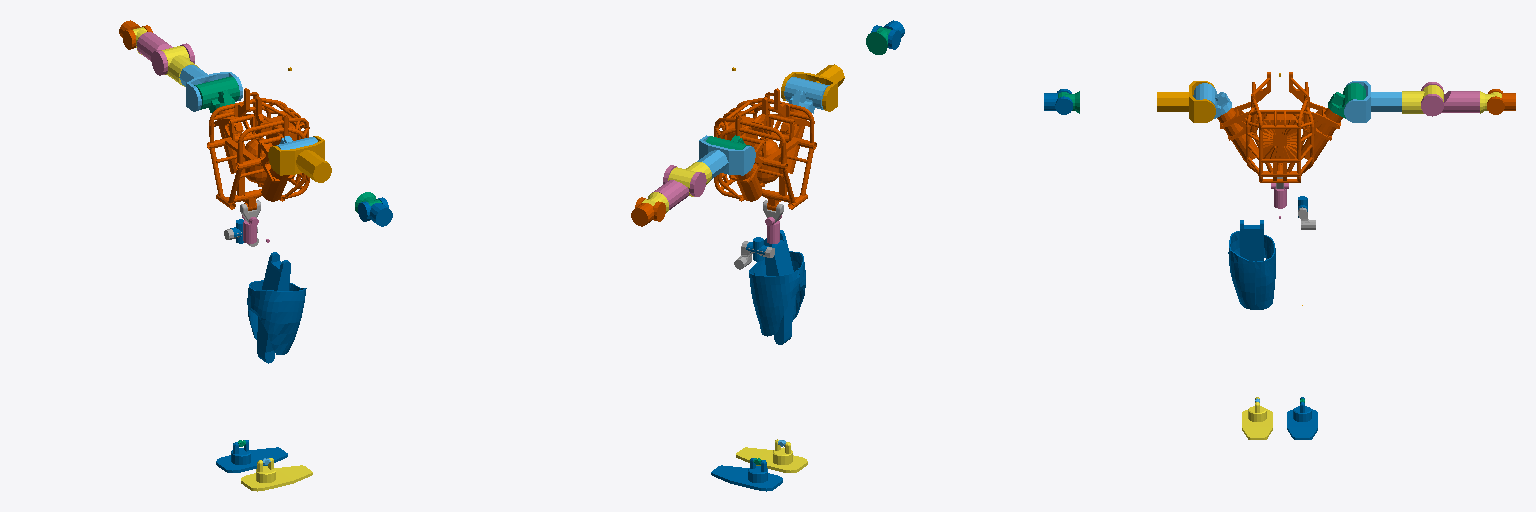
--- Render facts (derived) ---
The picture shows the robot from 3 angles, left to right: view 1: azimuth 30°, elevation 25°; view 2: azimuth 150°, elevation 25°; view 3: azimuth 270°, elevation 25°; orthographic projection.
Model atlas with 41 links and 40 joints (30 revolute, 1 continuous, 9 fixed), rooted at pelvis, posed every joint at zero.
Links seen in each view (by area): view 1: utorso, r_uleg, r_scap, r_foot, l_foot, l_clav, l_scap, l_larm, r_hand, l_uarm; view 2: utorso, r_uleg, l_scap, l_foot, r_foot, r_scap, r_clav, l_larm, l_hand, l_uarm; view 3: utorso, r_uleg, r_scap, l_scap, l_larm, r_foot, l_foot, l_clav, r_clav, l_uarm, l_hand, r_hand.
Link boxes in pixels (x1,y1,x2,y2): utorso: (207,88,309,210); r_uleg: (247,252,306,363); r_scap: (268,136,331,182); r_foot: (241,458,312,491); l_foot: (216,440,287,472); l_clav: (194,76,239,112); l_scap: (179,65,242,111); l_larm: (136,32,194,75); r_hand: (358,197,392,226); l_uarm: (161,46,198,86); utorso: (714,88,816,210); r_uleg: (749,230,805,344); l_scap: (697,135,755,179); l_foot: (711,458,782,491); r_foot: (736,439,807,472); r_scap: (781,64,844,111); r_clav: (784,77,829,113); l_larm: (652,165,706,209); l_hand: (631,197,665,226); l_uarm: (668,162,711,196); utorso: (1217,72,1342,182); r_uleg: (1228,220,1275,309); r_scap: (1157,81,1215,122); l_scap: (1344,81,1401,122); l_larm: (1421,82,1479,116); r_foot: (1242,397,1272,439); l_foot: (1287,397,1317,439); l_clav: (1328,83,1365,118); r_clav: (1193,83,1231,118); l_uarm: (1402,85,1443,113); l_hand: (1487,89,1515,114); r_hand: (1044,89,1072,114).
Bounding box of the posed robot: 0.3188 × 1.86 × 1.58 m (x, y, z).
28 mesh visuals loaded from 30 distinct referenced files (28 Collada DAE); not drawn: 2 (reference not matched to a file when rendering).

robot.urdf — atlas:
<?xml version="1.0" ?>
<!-- =================================================================================== -->
<!-- |    This document was autogenerated by xacro from robots/atlas.model.xacro       | -->
<!-- |    EDITING THIS FILE BY HAND IS NOT RECOMMENDED                                 | -->
<!-- =================================================================================== -->
<robot name="atlas" xmlns:controller="http://playerstage.sourceforge.net/gazebo/xmlschema/#controller" xmlns:interface="http://playerstage.sourceforge.net/gazebo/xmlschema/#interface" xmlns:sensor="http://playerstage.sourceforge.net/gazebo/xmlschema/#sensor" xmlns:xacro="http://www.ros.org/wiki/xacro">
  <link name="head">
    <inertial>
      <origin xyz="-0.075493 3.3383E-05 0.02774" rpy="0 0 0" />
      <mass value="1.4199" />
      <inertia
        iyy="0.0041178"
        ixy="-1.5797E-06"
        iyz="-6.8415E-07"
        ixx="0.0039688"
        ixz="-0.00089293"
        izz="0.0035243" />
    </inertial>
    <visual>
      <origin xyz="-0.0446 0 0.0880" rpy="0 0 1.570795" />
      <geometry>
        <mesh filename="package://multisense_sl/meshes/base_link.STL" />
      </geometry>
      <material name="">
        <color rgba="0.9098 0.44314 0.031373 1" />
      </material>
    </visual>
    <collision>
      <origin xyz="-0.0446 0 0.0880" rpy="0 0 1.570795" />
      <geometry>
        <mesh filename="package://multisense_sl/meshes/base_link.STL" />
      </geometry>
    </collision>
  </link>
  <link name="hokuyo_link">
    <inertial>
      <origin xyz="0.012428 0.0004084 -0.0041835" rpy="0 0 0" />
      <mass value="0.057664" />
      <inertia
        iyy="4.2412E-05"
        ixy="4.9927E-08"
        iyz="-9.8165E-09"
        ixx="3.7174E-05"
        ixz="1.1015E-05"
        izz="4.167E-05" />
    </inertial>
    <visual>
      <origin xyz="0 0 0" rpy="1.5707963267949 0 1.5707963267949" />
      <geometry>
        <mesh filename="package://multisense_sl/meshes/hokuyo_link.STL" />
      </geometry>
      <material name="">
        <color rgba="0.72941 0.35686 0.023529 1" />
      </material>
    </visual>
    <collision>
      <origin xyz="0 0 0" rpy="1.5707963267949 0 1.5707963267949" />
      <geometry>
        <mesh filename="package://multisense_sl/meshes/hokuyo_link.STL" />
      </geometry>
    </collision>
  </link>
  <joint name="hokuyo_joint" type="continuous">
    <origin xyz="-0.0446 0 0.0880" rpy="0 0 0" />
    <parent link="head" />
    <child link="hokuyo_link" />
    <axis xyz="1 0 0" />
    <dynamics damping="0.01" friction="0"/>
  </joint>
  <link name="l_clav">
    <inertial>
      <mass value="2.369"/>
      <origin rpy="0 -0 0" xyz="0.014 0.058 0.029"/>
      <inertia ixx="0.004" ixy="0.001" ixz="0" iyy="0.006" iyz="0" izz="0.007"/>
    </inertial>
    <visual>
      <origin rpy="0 -0 0" xyz="0 0 0"/>
      <geometry>
        <mesh filename="package://mit_robot/meshes/l_clav.dae" scale="1 1 1"/>
      </geometry>
    </visual>
    <collision>
      <origin rpy="0 -0 0" xyz="0 0 0"/>
      <geometry>
        <mesh filename="package://mit_robot/meshes/l_clav.stl" scale="1 1 1"/>
      </geometry>
    </collision>
  </link>
  <link name="l_farm">
    <inertial>
      <mass value="0.981"/>
      <origin rpy="0 -0 0" xyz="0 0.041 0"/>
      <inertia ixx="0.003" ixy="0" ixz="0" iyy="0.001" iyz="0" izz="0.003"/>
    </inertial>
    <visual>
      <origin rpy="0 -0 0" xyz="0 0 0"/>
      <geometry>
        <mesh filename="package://mit_robot/meshes/l_farm.dae" scale="1 1 1"/>
      </geometry>
    </visual>
    <collision>
      <origin rpy="0 -0 0" xyz="0 0 0"/>
      <geometry>
        <mesh filename="package://mit_robot/meshes/l_farm.stl" scale="1 1 1"/>
      </geometry>
    </collision>
  </link>
  <link name="l_foot">
    <inertial>
      <mass value="1.634"/>
      <origin rpy="0 -0 0" xyz="0.027 0 -0.067"/>
      <inertia ixx="0.002" ixy="0" ixz="0" iyy="0.007" iyz="0" izz="0.008"/>
    </inertial>
    <visual>
      <origin rpy="0 -0 0" xyz="0 0 0"/>
      <geometry>
        <mesh filename="package://mit_robot/meshes/l_foot.dae" scale="1 1 1"/>
      </geometry>
      <!--
      <origin xyz="0.048 0 -0.076119" rpy="0 0 0"/>
      <geometry>
        <box size="0.26 0.124887 0.01"/>
      </geometry>
      -->
    </visual>
    <collision>
      <origin rpy="0 -0 0" xyz="0 0 0"/>
      <geometry>
        <mesh filename="package://mit_robot/meshes/l_foot.stl" scale="1 1 1"/>
      </geometry>
      <!--
      <origin xyz="0.048 0 -0.076119" rpy="0 0 0"/>
      <geometry>
        <box size="0.26 0.124887 0.01"/>
      </geometry>
      -->
    </collision>
  </link>
  <link name="l_hand">
    <inertial>
      <mass value="2.263"/>
      <origin rpy="0 -0 0" xyz="0 0.093 0"/>
      <inertia ixx="0.01" ixy="0" ixz="0" iyy="0.002" iyz="0" izz="0.01"/>
    </inertial>
    <visual>
      <origin rpy="0 -0 0" xyz="0 0 0"/>
      <geometry>
        <mesh filename="package://mit_robot/meshes/l_hand.dae" scale="1 1 1"/>
      </geometry>
    </visual>
    <collision>
      <origin rpy="0 -0 0" xyz="0 0 0"/>
      <geometry>
        <mesh filename="package://mit_robot/meshes/l_hand.stl" scale="1 1 1"/>
      </geometry>
    </collision>
  </link>
  <link name="l_larm">
    <inertial>
      <mass value="2.148"/>
      <origin rpy="0 -0 0" xyz="-0.003 0.099 -0.014"/>
      <inertia ixx="0.005" ixy="0" ixz="0" iyy="0.003" iyz="0" izz="0.006"/>
    </inertial>
    <visual>
      <origin rpy="0 -0 0" xyz="0 0 0"/>
      <geometry>
        <mesh filename="package://mit_robot/meshes/l_larm.dae" scale="1 1 1"/>
      </geometry>
    </visual>
    <collision>
      <origin rpy="0 -0 0" xyz="0 0 0"/>
      <geometry>
        <mesh filename="package://mit_robot/meshes/l_larm.stl" scale="1 1 1"/>
      </geometry>
    </collision>
  </link>
  <link name="l_lglut">
    <inertial>
      <mass value="0.69"/>
      <origin rpy="0 -0 0" xyz="0.0133341 0.0170484 -0.0312052"/>
      <inertia ixx="0.000691326" ixy="-2.24344e-05" ixz="2.50508e-06" iyy="0.00126856" iyz="0.000137862" izz="0.00106487"/>
    </inertial>
    <visual>
      <origin rpy="0 -0 0" xyz="0 0 0"/>
      <geometry>
        <mesh filename="package://mit_robot/meshes/l_lglut.dae" scale="1 1 1"/>
      </geometry>
    </visual>
    <collision>
      <origin rpy="0 -0 0" xyz="0 0 0"/>
      <geometry>
        <mesh filename="package://mit_robot/meshes/l_lglut.stl" scale="1 1 1"/>
      </geometry>
    </collision>
  </link>
  <link name="l_lleg">
    <inertial>
      <mass value="4.367"/>
      <origin rpy="0 -0 0" xyz="0.001 0 -0.187"/>
      <inertia ixx="0.077" ixy="0" ixz="-0.003" iyy="0.076" iyz="0" izz="0.01"/>
    </inertial>
    <visual>
      <origin rpy="0 -0 0" xyz="0 0 0"/>
      <geometry>
        <mesh filename="package://mit_robot/meshes/l_lleg.dae" scale="1 1 1"/>
      </geometry>
    </visual>
    <collision>
      <origin rpy="0 -0 0" xyz="0 0 0"/>
      <geometry>
        <mesh filename="package://mit_robot/meshes/l_lleg.stl" scale="1 1 1"/>
      </geometry>
    </collision>
  </link>
  <link name="l_scap">
    <inertial>
      <mass value="2.707"/>
      <origin rpy="0 -0 0" xyz="-0.002 0.108 0"/>
      <inertia ixx="0.01" ixy="0" ixz="0" iyy="0.005" iyz="0" izz="0.013"/>
    </inertial>
    <visual>
      <origin rpy="0 -0 0" xyz="0 0 0"/>
      <geometry>
        <mesh filename="package://mit_robot/meshes/l_scap.dae" scale="1 1 1"/>
      </geometry>
    </visual>
    <collision>
      <origin rpy="0 -0 0" xyz="0 0 0"/>
      <geometry>
        <mesh filename="package://mit_robot/meshes/l_scap.stl" scale="1 1 1"/>
      </geometry>
    </collision>
  </link>
  <link name="l_talus">
    <inertial>
      <mass value="0.1"/>
      <origin rpy="0 -0 0" xyz="0 0 0"/>
      <inertia ixx="1.01674e-05" ixy="0" ixz="0" iyy="8.42775e-06" iyz="0" izz="1.30101e-05"/>
    </inertial>
    <visual>
      <origin rpy="0 -0 0" xyz="0 0 0"/>
      <geometry>
        <mesh filename="package://mit_robot/meshes/l_talus.dae" scale="1 1 1"/>
      </geometry>
    </visual>
    <collision>
      <origin rpy="0 -0 0" xyz="0 0 0"/>
      <geometry>
        <mesh filename="package://mit_robot/meshes/l_talus.stl" scale="1 1 1"/>
      </geometry>
    </collision>
  </link>
  <link name="l_uarm">
    <inertial>
      <mass value="1.881"/>
      <origin rpy="0 -0 0" xyz="0.007 0.114 0.008"/>
      <inertia ixx="0.002" ixy="0" ixz="0" iyy="0.003" iyz="0" izz="0.003"/>
    </inertial>
    <visual>
      <origin rpy="0 -0 0" xyz="0 0 0"/>
      <geometry>
        <mesh filename="package://mit_robot/meshes/l_uarm.dae" scale="1 1 1"/>
      </geometry>
    </visual>
    <collision>
      <origin rpy="0 -0 0" xyz="0 0 0"/>
      <geometry>
        <mesh filename="package://mit_robot/meshes/l_uarm.stl" scale="1 1 1"/>
      </geometry>
    </collision>
  </link>
  <link name="l_uglut">
    <inertial>
      <mass value="0.5166"/>
      <origin rpy="0 -0 0" xyz="0.00529262 -0.00344732 0.00313046"/>
      <inertia ixx="0.00074276" ixy="-3.79607e-08" ixz="-2.79549e-05" iyy="0.000688179" iyz="-3.2735e-08" izz="0.00041242"/>
    </inertial>
    <visual>
      <origin rpy="0 -0 0" xyz="0 0 0"/>
      <geometry>
        <mesh filename="package://mit_robot/meshes/l_uglut.dae" scale="1 1 1"/>
      </geometry>
    </visual>
    <collision>
      <origin rpy="0 -0 0" xyz="0 0 0"/>
      <geometry>
        <mesh filename="package://mit_robot/meshes/l_uglut.stl" scale="1 1 1"/>
      </geometry>
    </collision>
  </link>
  <link name="l_uleg">
    <inertial>
      <mass value="7.34"/>
      <origin rpy="0 -0 0" xyz="0 0 -0.21"/>
      <inertia ixx="0.09" ixy="0" ixz="0" iyy="0.09" iyz="0" izz="0.02"/>
    </inertial>
    <visual>
      <origin rpy="0 -0 0" xyz="0 0 0"/>
      <geometry>
        <mesh filename="package://mit_robot/meshes/l_uleg.dae" scale="1 1 1"/>
      </geometry>
    </visual>
    <collision>
      <origin rpy="0 -0 0" xyz="0 0 0"/>
      <geometry>
        <mesh filename="package://mit_robot/meshes/l_uleg.stl" scale="1 1 1"/>
      </geometry>
    </collision>
  </link>
  <link name="ltorso">
    <inertial>
      <mass value="1.92"/>
      <origin rpy="0 -0 0" xyz="-0.0112984 -3.15366e-06 0.0746835"/>
      <inertia ixx="0.0039092" ixy="-5.04491e-08" ixz="-0.000342157" iyy="0.00341694" iyz="4.87119e-07" izz="0.00174492"/>
    </inertial>
    <visual>
      <origin rpy="0 -0 0" xyz="0 0 0"/>
      <geometry>
        <mesh filename="package://mit_robot/meshes/ltorso.dae" scale="1 1 1"/>
      </geometry>
    </visual>
    <collision>
      <origin rpy="0 -0 0" xyz="0 0 0"/>
      <geometry>
        <mesh filename="package://mit_robot/meshes/ltorso.stl" scale="1 1 1"/>
      </geometry>
    </collision>
  </link>
  <link name="mtorso">
    <inertial>
      <mass value="0.55"/>
      <origin rpy="0 -0 0" xyz="-0.00816266 -0.0131245 0.0305974"/>
      <inertia ixx="0.000454181" ixy="-6.10764e-05" ixz="3.94009e-05" iyy="0.000483282" iyz="5.27463e-05" izz="0.000444215"/>
    </inertial>
    <visual>
      <origin rpy="0 -0 0" xyz="0 0 0"/>
      <geometry>
        <mesh filename="package://mit_robot/meshes/mtorso.dae" scale="1 1 1"/>
      </geometry>
    </visual>
    <collision>
      <origin rpy="0 -0 0" xyz="0 0 0"/>
      <geometry>
        <mesh filename="package://mit_robot/meshes/mtorso.stl" scale="1 1 1"/>
      </geometry>
    </collision>
  </link>
  <link name="pelvis">
    <inertial>
      <mass value="14.2529"/>
      <origin rpy="0 -0 0" xyz="0.0111 0 0.0271"/>
      <inertia ixx="0.1244" ixy="0.0008" ixz="-0.0007" iyy="0.0958" iyz="-0.0005" izz="0.1167"/>
    </inertial>
    <visual>
      <origin rpy="0 -0 0" xyz="0 0 0"/>
      <geometry>
        <mesh filename="package://mit_robot/meshes/pelvis.dae" scale="1 1 1"/>
      </geometry>
    </visual>
    <collision>
      <origin rpy="0 -0 0" xyz="0 0 0"/>
      <geometry>
        <mesh filename="package://mit_robot/meshes/pelvis.stl" scale="1 1 1"/>
      </geometry>
    </collision>
  </link>
  <link name="r_clav">
    <inertial>
      <mass value="2.369"/>
      <origin rpy="0 -0 0" xyz="0.014 -0.058 0.029"/>
      <inertia ixx="0.004" ixy="-0.001" ixz="0" iyy="0.006" iyz="0" izz="0.007"/>
    </inertial>
    <visual>
      <origin rpy="0 -0 0" xyz="0 0 0"/>
      <geometry>
        <mesh filename="package://mit_robot/meshes/r_clav.dae" scale="1 1 1"/>
      </geometry>
    </visual>
    <collision>
      <origin rpy="0 -0 0" xyz="0 0 0"/>
      <geometry>
        <mesh filename="package://mit_robot/meshes/r_clav.stl" scale="1 1 1"/>
      </geometry>
    </collision>
  </link>
  <link name="r_farm">
    <inertial>
      <mass value="0.981"/>
      <origin rpy="0 -0 0" xyz="0 -0.041 0"/>
      <inertia ixx="0.003" ixy="0" ixz="0" iyy="0.001" iyz="0" izz="0.003"/>
    </inertial>
    <visual>
      <origin rpy="0 -0 0" xyz="0 0 0"/>
      <geometry>
        <mesh filename="package://mit_robot/meshes/r_farm.dae" scale="1 1 1"/>
      </geometry>
    </visual>
    <collision>
      <origin rpy="0 -0 0" xyz="0 0 0"/>
      <geometry>
        <mesh filename="package://mit_robot/meshes/r_farm.stl" scale="1 1 1"/>
      </geometry>
    </collision>
  </link>
  <link name="r_foot">
    <inertial>
      <mass value="1.634"/>
      <origin rpy="0 -0 0" xyz="0.027 0 -0.067"/>
      <inertia ixx="0.002" ixy="0" ixz="0" iyy="0.007" iyz="0" izz="0.008"/>
    </inertial>
    <visual>
      <origin rpy="0 -0 0" xyz="0 0 0"/>
      <geometry>
        <mesh filename="package://mit_robot/meshes/r_foot.dae" scale="1 1 1"/>
      </geometry>
      <!--
      <origin xyz="0.048 0 -0.076119" rpy="0 0 0"/>
      <geometry>
        <box size="0.26 0.124887 0.01"/>
      </geometry>
      -->
    </visual>
    <collision>
      <origin rpy="0 -0 0" xyz="0 0 0"/>
      <geometry>
        <mesh filename="package://mit_robot/meshes/r_foot.stl" scale="1 1 1"/>
      </geometry>
      <!--
      <origin xyz="0.048 0 -0.076119" rpy="0 0 0"/>
      <geometry>
        <box size="0.26 0.124887 0.01"/>
      </geometry>
      -->
    </collision>
  </link>
  <link name="r_hand">
    <inertial>
      <mass value="2.263"/>
      <origin rpy="0 -0 0" xyz="0 -0.093 0"/>
      <inertia ixx="0.01" ixy="0" ixz="0" iyy="0.002" iyz="0" izz="0.01"/>
    </inertial>
    <visual>
      <origin rpy="0 -0 0" xyz="0 0 0"/>
      <geometry>
        <mesh filename="package://mit_robot/meshes/r_hand.dae" scale="1 1 1"/>
      </geometry>
    </visual>
    <collision>
      <origin rpy="0 -0 0" xyz="0 0 0"/>
      <geometry>
        <mesh filename="package://mit_robot/meshes/r_hand.stl" scale="1 1 1"/>
      </geometry>
    </collision>
  </link>
  <link name="r_larm">
    <inertial>
      <mass value="2.148"/>
      <origin rpy="0 -0 0" xyz="-0.003 -0.099 -0.014"/>
      <inertia ixx="0.005" ixy="0" ixz="0" iyy="0.003" iyz="0" izz="0.006"/>
    </inertial>
    <visual>
      <origin rpy="0 -0 0" xyz="0 0 0"/>
      <geometry>
        <mesh filename="package://mit_robot/meshes/r_larm.dae" scale="1 1 1"/>
      </geometry>
    </visual>
    <collision>
      <origin rpy="0 -0 0" xyz="0 0 0"/>
      <geometry>
        <mesh filename="package://mit_robot/meshes/r_larm.stl" scale="1 1 1"/>
      </geometry>
    </collision>
  </link>
  <link name="r_lglut">
    <inertial>
      <mass value="0.69"/>
      <origin rpy="0 -0 0" xyz="0.0133341 -0.0170484 -0.0312052"/>
      <inertia ixx="0.000691326" ixy="2.24344e-05" ixz="2.50508e-06" iyy="0.00126856" iyz="-0.000137862" izz="0.00106487"/>
    </inertial>
    <visual>
      <origin rpy="0 -0 0" xyz="0 0 0"/>
      <geometry>
        <mesh filename="package://mit_robot/meshes/r_lglut.dae" scale="1 1 1"/>
      </geometry>
    </visual>
    <collision>
      <origin rpy="0 -0 0" xyz="0 0 0"/>
      <geometry>
        <mesh filename="package://mit_robot/meshes/r_lglut.stl" scale="1 1 1"/>
      </geometry>
    </collision>
  </link>
  <link name="r_lleg">
    <inertial>
      <mass value="4.367"/>
      <origin rpy="0 -0 0" xyz="0.001 0 -0.187"/>
      <inertia ixx="0.077" ixy="-0" ixz="-0.003" iyy="0.076" iyz="-0" izz="0.01"/>
    </inertial>
    <visual>
      <origin rpy="0 -0 0" xyz="0 0 0"/>
      <geometry>
        <mesh filename="package://mit_robot/meshes/r_lleg.dae" scale="1 1 1"/>
      </geometry>
    </visual>
    <collision>
      <origin rpy="0 -0 0" xyz="0 0 0"/>
      <geometry>
        <mesh filename="package://mit_robot/meshes/r_lleg.stl" scale="1 1 1"/>
      </geometry>
    </collision>
  </link>
  <link name="r_scap">
    <inertial>
      <mass value="2.707"/>
      <origin rpy="0 -0 0" xyz="-0.002 -0.108 0"/>
      <inertia ixx="0.01" ixy="0" ixz="0" iyy="0.005" iyz="0" izz="0.013"/>
    </inertial>
    <visual>
      <origin rpy="0 -0 0" xyz="0 0 0"/>
      <geometry>
        <mesh filename="package://mit_robot/meshes/r_scap.dae" scale="1 1 1"/>
      </geometry>
    </visual>
    <collision>
      <origin rpy="0 -0 0" xyz="0 0 0"/>
      <geometry>
        <mesh filename="package://mit_robot/meshes/r_scap.stl" scale="1 1 1"/>
      </geometry>
    </collision>
  </link>
  <link name="r_talus">
    <inertial>
      <mass value="0.1"/>
      <origin rpy="0 -0 0" xyz="0 0 0"/>
      <inertia ixx="1.01674e-05" ixy="0" ixz="0" iyy="8.42775e-06" iyz="0" izz="1.30101e-05"/>
    </inertial>
    <visual>
      <origin rpy="0 -0 0" xyz="0 0 0"/>
      <geometry>
        <mesh filename="package://mit_robot/meshes/r_talus.dae" scale="1 1 1"/>
      </geometry>
    </visual>
    <collision>
      <origin rpy="0 -0 0" xyz="0 0 0"/>
      <geometry>
        <mesh filename="package://mit_robot/meshes/r_talus.stl" scale="1 1 1"/>
      </geometry>
    </collision>
  </link>
  <link name="r_uarm">
    <inertial>
      <mass value="1.881"/>
      <origin rpy="0 -0 0" xyz="0.007 -0.114 0.008"/>
      <inertia ixx="0.002" ixy="0" ixz="0" iyy="0.003" iyz="0" izz="0.003"/>
    </inertial>
    <visual>
      <origin rpy="0 -0 0" xyz="0 0 0"/>
      <geometry>
        <mesh filename="package://mit_robot/meshes/r_uarm.dae" scale="1 1 1"/>
      </geometry>
    </visual>
    <collision>
      <origin rpy="0 -0 0" xyz="0 0 0"/>
      <geometry>
        <mesh filename="package://mit_robot/meshes/r_uarm.stl" scale="1 1 1"/>
      </geometry>
    </collision>
  </link>
  <link name="r_uglut">
    <inertial>
      <mass value="0.5166"/>
      <origin rpy="0 -0 0" xyz="0.00529262 0.00344732 0.00313046"/>
      <inertia ixx="0.00074276" ixy="3.79607e-08" ixz="-2.79549e-05" iyy="0.000688179" iyz="3.2735e-08" izz="0.00041242"/>
    </inertial>
    <visual>
      <origin rpy="0 -0 0" xyz="0 0 0"/>
      <geometry>
        <mesh filename="package://mit_robot/meshes/r_uglut.dae" scale="1 1 1"/>
      </geometry>
    </visual>
    <collision>
      <origin rpy="0 -0 0" xyz="0 0 0"/>
      <geometry>
        <mesh filename="package://mit_robot/meshes/r_uglut.stl" scale="1 1 1"/>
      </geometry>
    </collision>
  </link>
  <link name="r_uleg">
    <inertial>
      <mass value="7.34"/>
      <origin rpy="0 -0 0" xyz="0 0 -0.21"/>
      <inertia ixx="0.09" ixy="0" ixz="0" iyy="0.09" iyz="0" izz="0.02"/>
    </inertial>
    <visual>
      <origin rpy="0 -0 0" xyz="0 0 0"/>
      <geometry>
        <mesh filename="package://mit_robot/meshes/r_uleg.dae" scale="1 1 1"/>
      </geometry>
    </visual>
    <collision>
      <origin rpy="0 -0 0" xyz="0 0 0"/>
      <geometry>
        <mesh filename="package://mit_robot/meshes/r_uleg.stl" scale="1 1 1"/>
      </geometry>
    </collision>
  </link>
  <link name="utorso">
    <inertial>
      <mass value="18.484"/>
      <origin rpy="0 -0 0" xyz="0.02 -0.001 0.211"/>
      <inertia ixx="0.395" ixy="0" ixz="0.083" iyy="1.089" iyz="-0.003" izz="0.327"/>
    </inertial>
    <visual>
      <origin rpy="0 -0 0" xyz="0 0 0"/>
      <geometry>
        <mesh filename="package://mit_robot/meshes/utorso.dae" scale="1 1 1"/>
      </geometry>
    </visual>
    <collision>
      <origin rpy="0 -0 0" xyz="0 0 0"/>
      <geometry>
        <mesh filename="package://mit_robot/meshes/utorso.stl" scale="1 1 1"/>
      </geometry>
    </collision>
  </link>
  <joint name="back_lbz" type="revolute">
    <origin rpy="0 -0 0" xyz="-0.0125 0 0"/>
    <axis xyz="0 0 1"/>
    <parent link="pelvis"/>
    <child link="ltorso"/>
    <dynamics damping="0.1" friction="0"/>
    <limit effort="124.016" lower="-0.610865" upper="0.610865" velocity="12"/>
    <safety_controller k_position="100" k_velocity="100" soft_lower_limit="-10.6109" soft_upper_limit="10.6109"/>
  </joint>
  <joint name="back_mby" type="revolute">
    <origin rpy="0 -0 0" xyz="0 0 0.09"/>
    <axis xyz="0 1 0"/>
    <parent link="ltorso"/>
    <child link="mtorso"/>
    <dynamics damping="0.1" friction="0"/>
    <limit effort="206.843" lower="-1.2" upper="1.28" velocity="12"/>
    <safety_controller k_position="100" k_velocity="100" soft_lower_limit="-11.2" soft_upper_limit="11.28"/>
  </joint>
  <joint name="back_ubx" type="revolute">
    <origin rpy="0 -0 0" xyz="0 0 0.05"/>
    <axis xyz="1 0 0"/>
    <parent link="mtorso"/>
    <child link="utorso"/>
    <dynamics damping="0.1" friction="0"/>
    <limit effort="94.91" lower="-0.790809" upper="0.790809" velocity="12"/>
    <safety_controller k_position="100" k_velocity="100" soft_lower_limit="-10.7908" soft_upper_limit="10.7908"/>
  </joint>
  <joint name="l_arm_elx" type="revolute">
    <origin rpy="0 -0 0" xyz="0 0.121 0.013"/>
    <axis xyz="1 0 0"/>
    <parent link="l_uarm"/>
    <child link="l_larm"/>
    <dynamics damping="0.1" friction="0"/>
    <limit effort="114" lower="0" upper="2.35619" velocity="12"/>
    <safety_controller k_position="100" k_velocity="100" soft_lower_limit="-10" soft_upper_limit="12.3562"/>
  </joint>
  <joint name="l_arm_ely" type="revolute">
    <origin rpy="0 -0 0" xyz="0 0.185 0"/>
    <axis xyz="0 1 0"/>
    <parent link="l_scap"/>
    <child link="l_uarm"/>
    <dynamics damping="0.1" friction="0"/>
    <limit effort="114" lower="0" upper="3.14159" velocity="12"/>
    <safety_controller k_position="100" k_velocity="100" soft_lower_limit="-10" soft_upper_limit="13.1416"/>
  </joint>
  <joint name="l_arm_mwx" type="revolute">
    <origin rpy="0 -0 0" xyz="0 0.058 0"/>
    <axis xyz="1 0 0"/>
    <parent link="l_farm"/>
    <child link="l_hand"/>
    <dynamics damping="0.1" friction="0"/>
    <limit effort="60" lower="-0.436" upper="1.571" velocity="12"/>
    <safety_controller k_position="100" k_velocity="100" soft_lower_limit="-10.436" soft_upper_limit="11.571"/>
  </joint>
  <joint name="l_arm_shx" type="revolute">
    <origin rpy="0 -0 0" xyz="0 0.075 0.036"/>
    <axis xyz="1 0 0"/>
    <parent link="l_clav"/>
    <child link="l_scap"/>
    <dynamics damping="0.1" friction="0"/>
    <limit effort="170" lower="-1.39626" upper="1.74533" velocity="12"/>
    <safety_controller k_position="100" k_velocity="100" soft_lower_limit="-11.3963" soft_upper_limit="11.7453"/>
  </joint>
  <joint name="l_arm_usy" type="revolute">
    <origin rpy="0 -0 0" xyz="0.024 0.221 0.289"/>
    <axis xyz="0 0.5 0.866025"/>
    <parent link="utorso"/>
    <child link="l_clav"/>
    <dynamics damping="0.1" friction="0"/>
    <limit effort="212" lower="-1.9635" upper="1.9635" velocity="12"/>
    <safety_controller k_position="100" k_velocity="100" soft_lower_limit="-11.9635" soft_upper_limit="11.9635"/>
  </joint>
  <joint name="l_arm_uwy" type="revolute">
    <origin rpy="0 -0 0" xyz="0 0.188 -0.013"/>
    <axis xyz="0 1 0"/>
    <parent link="l_larm"/>
    <child link="l_farm"/>
    <dynamics damping="0.1" friction="0"/>
    <limit effort="114" lower="-1.571" upper="1.571" velocity="12"/>
    <safety_controller k_position="100" k_velocity="100" soft_lower_limit="-11.571" soft_upper_limit="11.571"/>
  </joint>
  <joint name="l_leg_kny" type="revolute">
    <origin rpy="0 -0 0" xyz="-0.05 0 -0.374"/>
    <axis xyz="0 1 0"/>
    <parent link="l_uleg"/>
    <child link="l_lleg"/>
    <dynamics damping="0.1" friction="0"/>
    <limit effort="220" lower="0" upper="2.45" velocity="12"/>
    <safety_controller k_position="100" k_velocity="100" soft_lower_limit="-10" soft_upper_limit="12.45"/>
  </joint>
  <joint name="l_leg_lax" type="revolute">
    <origin rpy="0 -0 0" xyz="0 0 0"/>
    <axis xyz="1 0 0"/>
    <parent link="l_talus"/>
    <child link="l_foot"/>
    <dynamics damping="0.1" friction="0"/>
    <limit effort="90" lower="-0.436" upper="0.436" velocity="12"/>
    <safety_controller k_position="100" k_velocity="100" soft_lower_limit="-10.436" soft_upper_limit="10.436"/>
  </joint>
  <joint name="l_leg_lhy" type="revolute">
    <origin rpy="0 -0 0" xyz="0.05 0 -0.05"/>
    <axis xyz="0 1 0"/>
    <parent link="l_lglut"/>
    <child link="l_uleg"/>
    <dynamics damping="0.1" friction="0"/>
    <limit effort="260" lower="-1.75" upper="0.524" velocity="12"/>
    <safety_controller k_position="100" k_velocity="100" soft_lower_limit="-11.75" soft_upper_limit="10.524"/>
  </joint>
  <joint name="l_leg_mhx" type="revolute">
    <origin rpy="0 -0 0" xyz="0 0 0"/>
    <axis xyz="1 0 0"/>
    <parent link="l_uglut"/>
    <child link="l_lglut"/>
    <dynamics damping="0.1" friction="0"/>
    <limit effort="180" lower="-0.47" upper="0.495" velocity="12"/>
    <safety_controller k_position="100" k_velocity="100" soft_lower_limit="-10.47" soft_upper_limit="10.495"/>
  </joint>
  <joint name="l_leg_uay" type="revolute">
    <origin rpy="0 -0 0" xyz="0 0 -0.422"/>
    <axis xyz="0 1 0"/>
    <parent link="l_lleg"/>
    <child link="l_talus"/>
    <dynamics damping="0.1" friction="0"/>
    <limit effort="220" lower="-0.698" upper="0.698" velocity="12"/>
    <safety_controller k_position="100" k_velocity="100" soft_lower_limit="-10.698" soft_upper_limit="10.698"/>
  </joint>
  <joint name="l_leg_uhz" type="revolute">
    <origin rpy="0 -0 0" xyz="0 0.089 0"/>
    <axis xyz="0 0 1"/>
    <parent link="pelvis"/>
    <child link="l_uglut"/>
    <dynamics damping="0.1" friction="0"/>
    <limit effort="110" lower="-0.32" upper="1.14" velocity="12"/>
    <safety_controller k_position="100" k_velocity="100" soft_lower_limit="-10.32" soft_upper_limit="11.14"/>
  </joint>
  <joint name="neck_ay" type="revolute">
    <origin rpy="0 0 0" xyz="0.16555 0 0.50823"/>
    <axis xyz="0 1 0"/>
    <parent link="utorso"/>
    <child link="head"/>
    <dynamics damping="0.1" friction="0"/>
    <!-- per slides on sensor head kinematics 2012-12-14 -->
    <limit effort="5" lower="-0.610865238" upper="1.13446401" velocity="12"/>
    <safety_controller k_position="100" k_velocity="100" soft_lower_limit="-10.610865238" soft_upper_limit="11.13446401"/>
  </joint>
  <joint name="r_arm_elx" type="revolute">
    <origin rpy="0 -0 0" xyz="0 -0.121 0.013"/>
    <axis xyz="1 0 0"/>
    <parent link="r_uarm"/>
    <child link="r_larm"/>
    <dynamics damping="0.1" friction="0"/>
    <limit effort="114" lower="-2.35619" upper="0" velocity="12"/>
    <safety_controller k_position="100" k_velocity="100" soft_lower_limit="-12.3562" soft_upper_limit="10"/>
  </joint>
  <joint name="r_arm_ely" type="revolute">
    <origin rpy="0 -0 0" xyz="0 -0.185 0"/>
    <axis xyz="0 1 0"/>
    <parent link="r_scap"/>
    <child link="r_uarm"/>
    <dynamics damping="0.1" friction="0"/>
    <limit effort="114" lower="0" upper="3.14159" velocity="12"/>
    <safety_controller k_position="100" k_velocity="100" soft_lower_limit="-10" soft_upper_limit="13.1416"/>
  </joint>
  <joint name="r_arm_mwx" type="revolute">
    <origin rpy="0 -0 0" xyz="0 -0.058 0"/>
    <axis xyz="1 0 0"/>
    <parent link="r_farm"/>
    <child link="r_hand"/>
    <dynamics damping="0.1" friction="0"/>
    <limit effort="60" lower="-1.571" upper="0.436" velocity="12"/>
    <safety_controller k_position="100" k_velocity="100" soft_lower_limit="-11.571" soft_upper_limit="10.436"/>
  </joint>
  <joint name="r_arm_shx" type="revolute">
    <origin rpy="0 -0 0" xyz="0 -0.075 0.036"/>
    <axis xyz="1 0 0"/>
    <parent link="r_clav"/>
    <child link="r_scap"/>
    <dynamics damping="0.1" friction="0"/>
    <limit effort="170" lower="-1.74533" upper="1.39626" velocity="12"/>
    <safety_controller k_position="100" k_velocity="100" soft_lower_limit="-11.7453" soft_upper_limit="11.3963"/>
  </joint>
  <joint name="r_arm_usy" type="revolute">
    <origin rpy="0 -0 0" xyz="0.024 -0.221 0.289"/>
    <axis xyz="0 -0.5 0.866025"/>
    <parent link="utorso"/>
    <child link="r_clav"/>
    <dynamics damping="0.1" friction="0"/>
    <limit effort="212" lower="-1.9635" upper="1.9635" velocity="12"/>
    <safety_controller k_position="100" k_velocity="100" soft_lower_limit="-11.9635" soft_upper_limit="11.9635"/>
  </joint>
  <joint name="r_arm_uwy" type="revolute">
    <origin rpy="0 -0 0" xyz="0 -0.188 -0.013"/>
    <axis xyz="0 1 0"/>
    <parent link="r_larm"/>
    <child link="r_farm"/>
    <dynamics damping="0.1" friction="0"/>
    <limit effort="114" lower="-1.571" upper="1.571" velocity="12"/>
    <safety_controller k_position="100" k_velocity="100" soft_lower_limit="-11.571" soft_upper_limit="11.571"/>
  </joint>
  <joint name="r_leg_kny" type="revolute">
    <origin rpy="0 -0 0" xyz="-0.05 0 -0.374"/>
    <axis xyz="0 1 0"/>
    <parent link="r_uleg"/>
    <child link="r_lleg"/>
    <dynamics damping="0.1" friction="0"/>
    <limit effort="220" lower="0" upper="2.45" velocity="12"/>
    <safety_controller k_position="100" k_velocity="100" soft_lower_limit="-10" soft_upper_limit="12.45"/>
  </joint>
  <joint name="r_leg_lax" type="revolute">
    <origin rpy="0 -0 0" xyz="0 0 0"/>
    <axis xyz="1 0 0"/>
    <parent link="r_talus"/>
    <child link="r_foot"/>
    <dynamics damping="0.1" friction="0"/>
    <limit effort="90" lower="-0.436" upper="0.436" velocity="12"/>
    <safety_controller k_position="100" k_velocity="100" soft_lower_limit="-10.436" soft_upper_limit="10.436"/>
  </joint>
  <joint name="r_leg_lhy" type="revolute">
    <origin rpy="0 -0 0" xyz="0.05 0 -0.05"/>
    <axis xyz="0 1 0"/>
    <parent link="r_lglut"/>
    <child link="r_uleg"/>
    <dynamics damping="0.1" friction="0"/>
    <limit effort="260" lower="-1.745" upper="0.524" velocity="12"/>
    <safety_controller k_position="100" k_velocity="100" soft_lower_limit="-11.745" soft_upper_limit="10.524"/>
  </joint>
  <joint name="r_leg_mhx" type="revolute">
    <origin rpy="0 -0 0" xyz="0 0 0"/>
    <axis xyz="1 0 0"/>
    <parent link="r_uglut"/>
    <child link="r_lglut"/>
    <dynamics damping="0.1" friction="0"/>
    <limit effort="180" lower="-0.495" upper="0.47" velocity="12"/>
    <safety_controller k_position="100" k_velocity="100" soft_lower_limit="-10.495" soft_upper_limit="10.47"/>
  </joint>
  <joint name="r_leg_uay" type="revolute">
    <origin rpy="0 -0 0" xyz="0 0 -0.422"/>
    <axis xyz="0 1 0"/>
    <parent link="r_lleg"/>
    <child link="r_talus"/>
    <dynamics damping="0.1" friction="0"/>
    <limit effort="220" lower="-0.698" upper="0.698" velocity="12"/>
    <safety_controller k_position="100" k_velocity="100" soft_lower_limit="-10.698" soft_upper_limit="10.698"/>
  </joint>
  <joint name="r_leg_uhz" type="revolute">
    <origin rpy="0 -0 0" xyz="0 -0.089 0"/>
    <axis xyz="0 0 1"/>
    <parent link="pelvis"/>
    <child link="r_uglut"/>
    <dynamics damping="0.1" friction="0"/>
    <limit effort="260" lower="-1.14" upper="0.32" velocity="12"/>
    <safety_controller k_position="100" k_velocity="100" soft_lower_limit="-11.14" soft_upper_limit="10.32"/>
  </joint>
  <gazebo>
    <!-- robot model offset -->
    <pose>0 0 0.93 0 0 0</pose>
  </gazebo>
  <gazebo>
    <plugin filename="liboracle_plugin.so" name="oracle_plugin"/>
    <plugin filename="libMultiSenseSLPlugin.so" name="multisense_plugin" />
    <plugin filename="libAtlasPlugin.so" name="atlas_plugin"/>
    <plugin filename="libgazebo_ros_joint_trajectory.so" name="joint_trajectory_plugin">
      <topicName>joint_trajectory</topicName>
      <updateRate>1000.0</updateRate>
    </plugin>
    <plugin filename="libgazebo_ros_controller_manager.so" name="gazebo_ros_controller_manager">
      <alwaysOn>true</alwaysOn>
      <updateRate>1000.0</updateRate>
    </plugin>
    <plugin filename="libgazebo_ros_pub_robot_state.so" name="gazebo_ros_pub_robot_controller">
      <alwaysOn>true</alwaysOn>
      <updateRate>100.0</updateRate>
      <topicName>true_robot_state</topicName>
      <synchronization>false</synchronization>
    </plugin>
    <plugin filename="libjoint_actuation_plugin.so" name="joint_torque_controller">
      <alwaysOn>true</alwaysOn>
      <topicName>actuator_cmd</topicName>
    </plugin>
  </gazebo>
  <link name="imu_link">
    <inertial>
      <mass value="0.1"/>
      <origin xyz="0 0 0"/>
      <inertia ixx="0.001" ixy="0" ixz="0" iyy="0.001" iyz="0" izz="0.001"/>
    </inertial>
    <collision>
      <origin rpy="0 0 0" xyz="0 0 0"/>
      <geometry>
        <box size="0.01 0.01 0.01"/>
      </geometry>
    </collision>
    <visual>
      <origin rpy="0 0 0" xyz="0 0 0"/>
      <geometry>
        <box size="0.01 0.01 0.01"/>
      </geometry>
    </visual>
  </link>
  <!-- use a zero limit revolute joint rather than fixed to prevent lumping -->
  <joint name="imu_joint" type="revolute">
    <parent link="pelvis"/>
    <child link="imu_link"/>
    <origin xyz="0.05991527603 0 -0.01415" rpy="0 0 0"/>
    <limit effort="0" lower="0" upper="0" velocity="0"/>
    <safety_controller k_position="0" k_velocity="0" soft_lower_limit="0" soft_upper_limit="0"/>
    <axis xyz="0 0 1"/>
  </joint>
  <gazebo>
    <plugin filename="libgazebo_ros_imu.so" name="atlas_imu">
      <alwaysOn>true</alwaysOn>
      <updateRate>100.0</updateRate>
      <bodyName>imu_link</bodyName>
      <topicName>imu</topicName>
      <gaussianNoise>0.0</gaussianNoise>
      <xyzOffsets>0 0 0</xyzOffsets>
      <rpyOffsets>0 0 0</rpyOffsets>
    </plugin>
  </gazebo>
  <gazebo reference="l_arm_mwx">
    <provideFeedback>1</provideFeedback>
  </gazebo>
  <gazebo reference="r_arm_mwx">
    <provideFeedback>1</provideFeedback>
  </gazebo>
  <gazebo reference="l_leg_lax">
    <provideFeedback>1</provideFeedback>
  </gazebo>
  <gazebo reference="r_leg_lax">
    <provideFeedback>1</provideFeedback>
  </gazebo>
  <gazebo reference="r_foot">
    <mu1>10.0</mu1>
    <mu2>10.0</mu2>
    <fdir1>1 0 0</fdir1>
    <maxVel>0.0</maxVel>
    <minDepth>0.001</minDepth>
  </gazebo>
  <gazebo reference="l_foot">
    <mu1>10.0</mu1>
    <mu2>10.0</mu2>
    <fdir1>1 0 0</fdir1>
    <maxVel>0.0</maxVel>
    <minDepth>0.001</minDepth>
  </gazebo>
  <gazebo>
    <plugin filename="libgazebo_ros_p3d.so" name="gazebo_ros_p3d">
      <bodyName>pelvis</bodyName>
      <topicName>/ground_truth_odom</topicName>
      <alwaysOn>true</alwaysOn>
      <updateRate>100.0</updateRate>
    </plugin>
  </gazebo>
  <transmission name="head_hokuyo_trans" type="pr2_mechanism_model/SimpleTransmission">
    <joint name="hokuyo_joint"/>
    <actuator name="hokuyo_motor"/>
    <mechanicalReduction>1</mechanicalReduction>
  </transmission>
  <transmission name="back_lbz_trans" type="pr2_mechanism_model/SimpleTransmission">
    <joint name="back_lbz"/>
    <actuator name="back_lbz_motor"/>
    <mechanicalReduction>1</mechanicalReduction>
  </transmission>
  <transmission name="back_mby_trans" type="pr2_mechanism_model/SimpleTransmission">
    <actuator name="back_mby_motor"/>
    <joint name="back_mby"/>
    <mechanicalReduction>1</mechanicalReduction>
  </transmission>
  <transmission name="back_ubx_trans" type="pr2_mechanism_model/SimpleTransmission">
    <actuator name="back_ubx_motor"/>
    <joint name="back_ubx"/>
    <mechanicalReduction>1</mechanicalReduction>
  </transmission>
  <transmission name="l_arm_elx_trans" type="pr2_mechanism_model/SimpleTransmission">
    <actuator name="l_arm_elx_motor"/>
    <joint name="l_arm_elx"/>
    <mechanicalReduction>1</mechanicalReduction>
  </transmission>
  <transmission name="l_arm_ely_trans" type="pr2_mechanism_model/SimpleTransmission">
    <actuator name="l_arm_ely_motor"/>
    <joint name="l_arm_ely"/>
    <mechanicalReduction>1</mechanicalReduction>
  </transmission>
  <transmission name="l_arm_mwx_trans" type="pr2_mechanism_model/SimpleTransmission">
    <actuator name="l_arm_mwx_motor"/>
    <joint name="l_arm_mwx"/>
    <mechanicalReduction>1</mechanicalReduction>
  </transmission>
  <transmission name="l_arm_shx_trans" type="pr2_mechanism_model/SimpleTransmission">
    <actuator name="l_arm_shx_motor"/>
    <joint name="l_arm_shx"/>
    <mechanicalReduction>1</mechanicalReduction>
  </transmission>
  <transmission name="l_arm_usy_trans" type="pr2_mechanism_model/SimpleTransmission">
    <actuator name="l_arm_usy_motor"/>
    <joint name="l_arm_usy"/>
    <mechanicalReduction>1</mechanicalReduction>
  </transmission>
  <transmission name="l_arm_uwy_trans" type="pr2_mechanism_model/SimpleTransmission">
    <actuator name="l_arm_uwy_motor"/>
    <joint name="l_arm_uwy"/>
    <mechanicalReduction>1</mechanicalReduction>
  </transmission>
  <transmission name="l_leg_kny_trans" type="pr2_mechanism_model/SimpleTransmission">
    <actuator name="l_leg_kny_motor"/>
    <joint name="l_leg_kny"/>
    <mechanicalReduction>1</mechanicalReduction>
  </transmission>
  <transmission name="l_leg_lax_trans" type="pr2_mechanism_model/SimpleTransmission">
    <actuator name="l_leg_lax_motor"/>
    <joint name="l_leg_lax"/>
    <mechanicalReduction>1</mechanicalReduction>
  </transmission>
  <transmission name="l_leg_lhy_trans" type="pr2_mechanism_model/SimpleTransmission">
    <actuator name="l_leg_lhy_motor"/>
    <joint name="l_leg_lhy"/>
    <mechanicalReduction>1</mechanicalReduction>
  </transmission>
  <transmission name="l_leg_mhx_trans" type="pr2_mechanism_model/SimpleTransmission">
    <actuator name="l_leg_mhx_motor"/>
    <joint name="l_leg_mhx"/>
    <mechanicalReduction>1</mechanicalReduction>
  </transmission>
  <transmission name="l_leg_uay_trans" type="pr2_mechanism_model/SimpleTransmission">
    <actuator name="l_leg_uay_motor"/>
    <joint name="l_leg_uay"/>
    <mechanicalReduction>1</mechanicalReduction>
  </transmission>
  <transmission name="l_leg_uhz_trans" type="pr2_mechanism_model/SimpleTransmission">
    <actuator name="l_leg_uhz_motor"/>
    <joint name="l_leg_uhz"/>
    <mechanicalReduction>1</mechanicalReduction>
  </transmission>
  <transmission name="neck_ay_trans" type="pr2_mechanism_model/SimpleTransmission">
    <actuator name="neck_ay_motor"/>
    <joint name="neck_ay"/>
    <mechanicalReduction>1</mechanicalReduction>
  </transmission>
  <transmission name="r_arm_elx_trans" type="pr2_mechanism_model/SimpleTransmission">
    <actuator name="r_arm_elx_motor"/>
    <joint name="r_arm_elx"/>
    <mechanicalReduction>1</mechanicalReduction>
  </transmission>
  <transmission name="r_arm_ely_trans" type="pr2_mechanism_model/SimpleTransmission">
    <actuator name="r_arm_ely_motor"/>
    <joint name="r_arm_ely"/>
    <mechanicalReduction>1</mechanicalReduction>
  </transmission>
  <transmission name="r_arm_mwx_trans" type="pr2_mechanism_model/SimpleTransmission">
    <actuator name="r_arm_mwx_motor"/>
    <joint name="r_arm_mwx"/>
    <mechanicalReduction>1</mechanicalReduction>
  </transmission>
  <transmission name="r_arm_shx_trans" type="pr2_mechanism_model/SimpleTransmission">
    <actuator name="r_arm_shx_motor"/>
    <joint name="r_arm_shx"/>
    <mechanicalReduction>1</mechanicalReduction>
  </transmission>
  <transmission name="r_arm_usy_trans" type="pr2_mechanism_model/SimpleTransmission">
    <actuator name="r_arm_usy_motor"/>
    <joint name="r_arm_usy"/>
    <mechanicalReduction>1</mechanicalReduction>
  </transmission>
  <transmission name="r_arm_uwy_trans" type="pr2_mechanism_model/SimpleTransmission">
    <actuator name="r_arm_uwy_motor"/>
    <joint name="r_arm_uwy"/>
    <mechanicalReduction>1</mechanicalReduction>
  </transmission>
  <transmission name="r_leg_kny_trans" type="pr2_mechanism_model/SimpleTransmission">
    <actuator name="r_leg_kny_motor"/>
    <joint name="r_leg_kny"/>
    <mechanicalReduction>1</mechanicalReduction>
  </transmission>
  <transmission name="r_leg_lax_trans" type="pr2_mechanism_model/SimpleTransmission">
    <actuator name="r_leg_lax_motor"/>
    <joint name="r_leg_lax"/>
    <mechanicalReduction>1</mechanicalReduction>
  </transmission>
  <transmission name="r_leg_lhy_trans" type="pr2_mechanism_model/SimpleTransmission">
    <actuator name="r_leg_lhy_motor"/>
    <joint name="r_leg_lhy"/>
    <mechanicalReduction>1</mechanicalReduction>
  </transmission>
  <transmission name="r_leg_mhx_trans" type="pr2_mechanism_model/SimpleTransmission">
    <actuator name="r_leg_mhx_motor"/>
    <joint name="r_leg_mhx"/>
    <mechanicalReduction>1</mechanicalReduction>
  </transmission>
  <transmission name="r_leg_uay_trans" type="pr2_mechanism_model/SimpleTransmission">
    <actuator name="r_leg_uay_motor"/>
    <joint name="r_leg_uay"/>
    <mechanicalReduction>1</mechanicalReduction>
  </transmission>
  <transmission name="r_leg_uhz_trans" type="pr2_mechanism_model/SimpleTransmission">
    <actuator name="r_leg_uhz_motor"/>
    <joint name="r_leg_uhz"/>
    <mechanicalReduction>1</mechanicalReduction>
  </transmission>
  <joint name="head_hokuyo_joint" type="fixed">
    <axis xyz="0 1 0"/>
    <origin rpy="0 0 0" xyz="0.03 0 0.015"/>
    <parent link="hokuyo_link"/>
    <child link="head_hokuyo"/>
  </joint>
  <link name="head_hokuyo" type="laser">
    <inertial>
      <mass value="0.01"/>
      <origin rpy="0 0 0" xyz="0 0 0"/>
      <inertia ixx="0.00001" ixy="0" ixz="0" iyy="0.00001" iyz="0" izz="0.00001"/>
    </inertial>
  </link>
  <gazebo reference="head_hokuyo">
    <sensor name="head_hokuyo_sensor" type="ray">
      <pose>0 0 0 0 0 0</pose>
      <visualize>false</visualize>
      <update_rate>40</update_rate>
      <ray>
        <scan>
          <horizontal>
            <samples>720</samples>
            <resolution>1</resolution>
            <min_angle>-1.570796</min_angle>
            <max_angle>1.570796</max_angle>
          </horizontal>
        </scan>
        <range>
          <min>0.1</min>
          <max>30.0</max>
          <resolution>0.001</resolution>
        </range>
      </ray>
      <plugin filename="libgazebo_ros_laser.so" name="gazebo_ros_head_hokuyo_controller">
        <gaussianNoise>0.005</gaussianNoise>
        <alwaysOn>true</alwaysOn>
        <updateRate>40</updateRate>
        <topicName>/scan</topicName>
        <frameName>head_hokuyo</frameName>
      </plugin>
    </sensor>
  </gazebo>

  
  
  <!-- head imu -->
  <link name="head_imu_link">
    <inertial>
      <mass value="0.1"/>
      <origin xyz="0 0 0"/>
      <inertia ixx="0.001" ixy="0" ixz="0" iyy="0.001" iyz="0" izz="0.001"/>
    </inertial>
    <collision>
      <origin rpy="0 0 0" xyz="0 0 0"/>
      <geometry>
        <box size="0.01 0.01 0.01"/>
      </geometry>
    </collision>
    <visual>
      <origin rpy="0 0 0" xyz="0 0 0"/>
      <geometry>
        <box size="0.01 0.01 0.01"/>
      </geometry>
    </visual>
  </link>
  <!-- use a zero limit revolute joint rather than fixed to prevent lumping -->
  <joint name="head_imu_joint" type="revolute">
    <parent link="head"/>
    <child link="head_imu_link"/>
    <origin xyz="0 0 0" rpy="0 0 0"/>
    <limit effort="0" lower="0" upper="0" velocity="0"/>
    <safety_controller k_position="0" k_velocity="0" soft_lower_limit="0" soft_upper_limit="0"/>
    <axis xyz="0 0 1"/>
  </joint>  
  <gazebo>
    <plugin filename="libgazebo_ros_imu.so" name="drc_robot_imu_head">
      <alwaysOn>true</alwaysOn>
      <updateRate>100.0</updateRate>
      <bodyName>head_imu_link</bodyName>
      <topicName>head_imu</topicName>
      <gaussianNoise>0.0</gaussianNoise>
      <xyzOffsets>0 0 0</xyzOffsets>
      <rpyOffsets>0 0 0</rpyOffsets>
    </plugin>
  </gazebo> 

  <joint name="left_camera_frame_joint" type="fixed">
    <!-- optical frame collocated with tilting DOF -->
    <origin xyz="0.0 0.035 -0.002"/>
    <parent link="head"/>
    <child link="left_camera_frame"/>
  </joint>
  <link name="left_camera_frame">
    <inertial>
      <mass value="0.1"/>
      <origin xyz="0 0 0"/>
      <inertia ixx="0.001" ixy="0.0" ixz="0.0" iyy="0.001" iyz="0.0" izz="0.001"/>
    </inertial>
  </link>
  <joint name="left_camera_optical_frame_joint" type="fixed">
    <origin rpy="-1.5708 0.0 -1.5708" xyz="0 0 0"/>
    <parent link="left_camera_frame"/>
    <child link="left_camera_optical_frame"/>
  </joint>
  <link name="left_camera_optical_frame"/>
  <gazebo reference="left_camera_frame">
    <sensor name="left_camera_sensor" type="camera">
      <!-- update rate based on spec sheet for 2mp 15fps -->
      <update_rate>15.0</update_rate>
      <camera>
        <!-- hfov based on spec sheet, 80 degrees X 45 degrees -->
        <!-- for resolution of 2048 x 1088, we have non-unity aspect ratio -->
        <!-- but gazebo will violate the vertical fov for now to keep aspect ratio of 1 -->
        <horizontal_fov>1.3962634</horizontal_fov>
        <image>
          <width>1024</width>
          <height>544</height>
          <format>R8G8B8</format>
        </image>
        <clip>
          <near>0.02</near>
          <far>100</far>
        </clip>
      </camera>
      <plugin filename="libgazebo_ros_camera.so" name="left_camera_controller">
        <alwaysOn>true</alwaysOn>
        <!-- update rate based on spec sheet for 2mp 15fps -->
        <updateRate>15.0</updateRate>
        <cameraName>multisense_sl/left</cameraName>
        <imageTopicName>image_raw</imageTopicName>
        <cameraInfoTopicName>camera_info</cameraInfoTopicName>
        <frameName>left_camera_optical_frame</frameName>
        <hackBaseline>0.0</hackBaseline>
        <distortionK1>0.0</distortionK1>
        <distortionK2>0.0</distortionK2>
        <distortionK3>0.0</distortionK3>
        <distortionT1>0.0</distortionT1>
        <distortionT2>0.0</distortionT2>
      </plugin>
    </sensor>
  </gazebo>
  <joint name="right_camera_frame_joint" type="fixed">
    <origin xyz="0.0 -0.035 -0.002"/>
    <parent link="head"/>
    <child link="right_camera_frame"/>
  </joint>
  <link name="right_camera_frame">
    <inertial>
      <mass value="0.1"/>
      <origin xyz="0 0 0"/>
      <inertia ixx="0.001" ixy="0.0" ixz="0.0" iyy="0.001" iyz="0.0" izz="0.001"/>
    </inertial>
  </link>
  <joint name="right_camera_optical_frame_joint" type="fixed">
    <origin rpy="-1.5708 0.0 -1.5708" xyz="0 0 0"/>
    <parent link="right_camera_frame"/>
    <child link="right_camera_optical_frame"/>
  </joint>
  <link name="right_camera_optical_frame"/>
  <gazebo reference="right_camera_frame">
    <sensor name="right_camera_sensor" type="camera">
      <!-- update rate based on spec sheet for 2mp 15fps -->
      <update_rate>15.0</update_rate>
      <camera>
        <!-- hfov based on spec sheet, 80 degrees X 45 degrees -->
        <!-- for resolution of 2048 x 1088, we have non-unity aspect ratio -->
        <!-- but gazebo will violate the vertical fov for now to keep aspect ratio of 1 -->
        <horizontal_fov>1.3962634</horizontal_fov>
        <image>
          <width>1024</width>
          <height>544</height>
          <format>R8G8B8</format>
        </image>
        <clip>
          <near>0.02</near>
          <far>100</far>
        </clip>
      </camera>
      <plugin filename="libgazebo_ros_camera.so" name="right_camera_controller">
        <alwaysOn>true</alwaysOn>
        <!-- update rate based on spec sheet for 2mp 15fps -->
        <updateRate>15.0</updateRate>
        <cameraName>multisense_sl/right</cameraName>
        <imageTopicName>image_raw</imageTopicName>
        <cameraInfoTopicName>camera_info</cameraInfoTopicName>
        <frameName>left_camera_optical_frame</frameName>
        <hackBaseline>0.07</hackBaseline>
        <!-- check this -->
        <distortionK1>0.0</distortionK1>
        <distortionK2>0.0</distortionK2>
        <distortionK3>0.0</distortionK3>
        <distortionT1>0.0</distortionT1>
        <distortionT2>0.0</distortionT2>
      </plugin>
    </sensor>
  </gazebo>

  <!-- leds -->
  <joint name="center_top_led_frame_joint" type="fixed">
    <origin xyz="0.01125 0.0 0.0105"/>
    <parent link="head"/>
    <child link="center_top_led_frame"/>
  </joint>
  <link name="center_top_led_frame">
    <inertial>
      <mass value="0.1"/>
      <origin xyz="0 0 0"/>
      <inertia ixx="0.001" ixy="0.0" ixz="0.0" iyy="0.001" iyz="0.0" izz="0.001"/>
    </inertial>
  </link>
  <joint name="center_bottom_led_frame_joint" type="fixed">
    <origin xyz="0.01125 0.0 -0.0155"/>
    <parent link="head"/>
    <child link="center_bottom_led_frame"/>
  </joint>
  <link name="center_bottom_led_frame">
    <inertial>
      <mass value="0.1"/>
      <origin xyz="0 0 0"/>
      <inertia ixx="0.001" ixy="0.0" ixz="0.0" iyy="0.001" iyz="0.0" izz="0.001"/>
    </inertial>
  </link>
  <joint name="left_led_frame_joint" type="fixed">
    <origin xyz="-0.01443 0.07452 0.050346" rpy="0 -0.15 0.53"/>
    <parent link="head"/>
    <child link="left_led_frame"/>
  </joint>
  <link name="left_led_frame">
    <inertial>
      <mass value="0.1"/>
      <origin xyz="0 0 0"/>
      <inertia ixx="0.001" ixy="0.0" ixz="0.0" iyy="0.001" iyz="0.0" izz="0.001"/>
    </inertial>
  </link>
  <joint name="right_led_frame_joint" type="fixed">
    <origin xyz="-0.01443 -0.07452 0.050346" rpy="0 -0.15 -0.53"/>
    <parent link="head"/>
    <child link="right_led_frame"/>
  </joint>
  <link name="right_led_frame">
    <inertial>
      <mass value="0.1"/>
      <origin xyz="0 0 0"/>
      <inertia ixx="0.001" ixy="0.0" ixz="0.0" iyy="0.001" iyz="0.0" izz="0.001"/>
    </inertial>
  </link>

  <!-- contact sensor -->
  <gazebo reference="r_foot">
    <sensor type="contact" name="r_foot_contact_sensor">
      <update_rate>1000.0</update_rate>
      <always_on>1</always_on>
      <contact>
        <collision>r_foot_collision</collision>
        <topic>/r_foot_contact</topic>
      </contact>
    </sensor>
  </gazebo>
  <gazebo reference="l_foot">
    <sensor type="contact" name="l_foot_contact_sensor">
      <update_rate>1000.0</update_rate>
      <always_on>1</always_on>
      <contact>
        <collision>l_foot_collision</collision>
        <topic>/l_foot_contact</topic>
      </contact>
    </sensor>
  </gazebo>


</robot>
